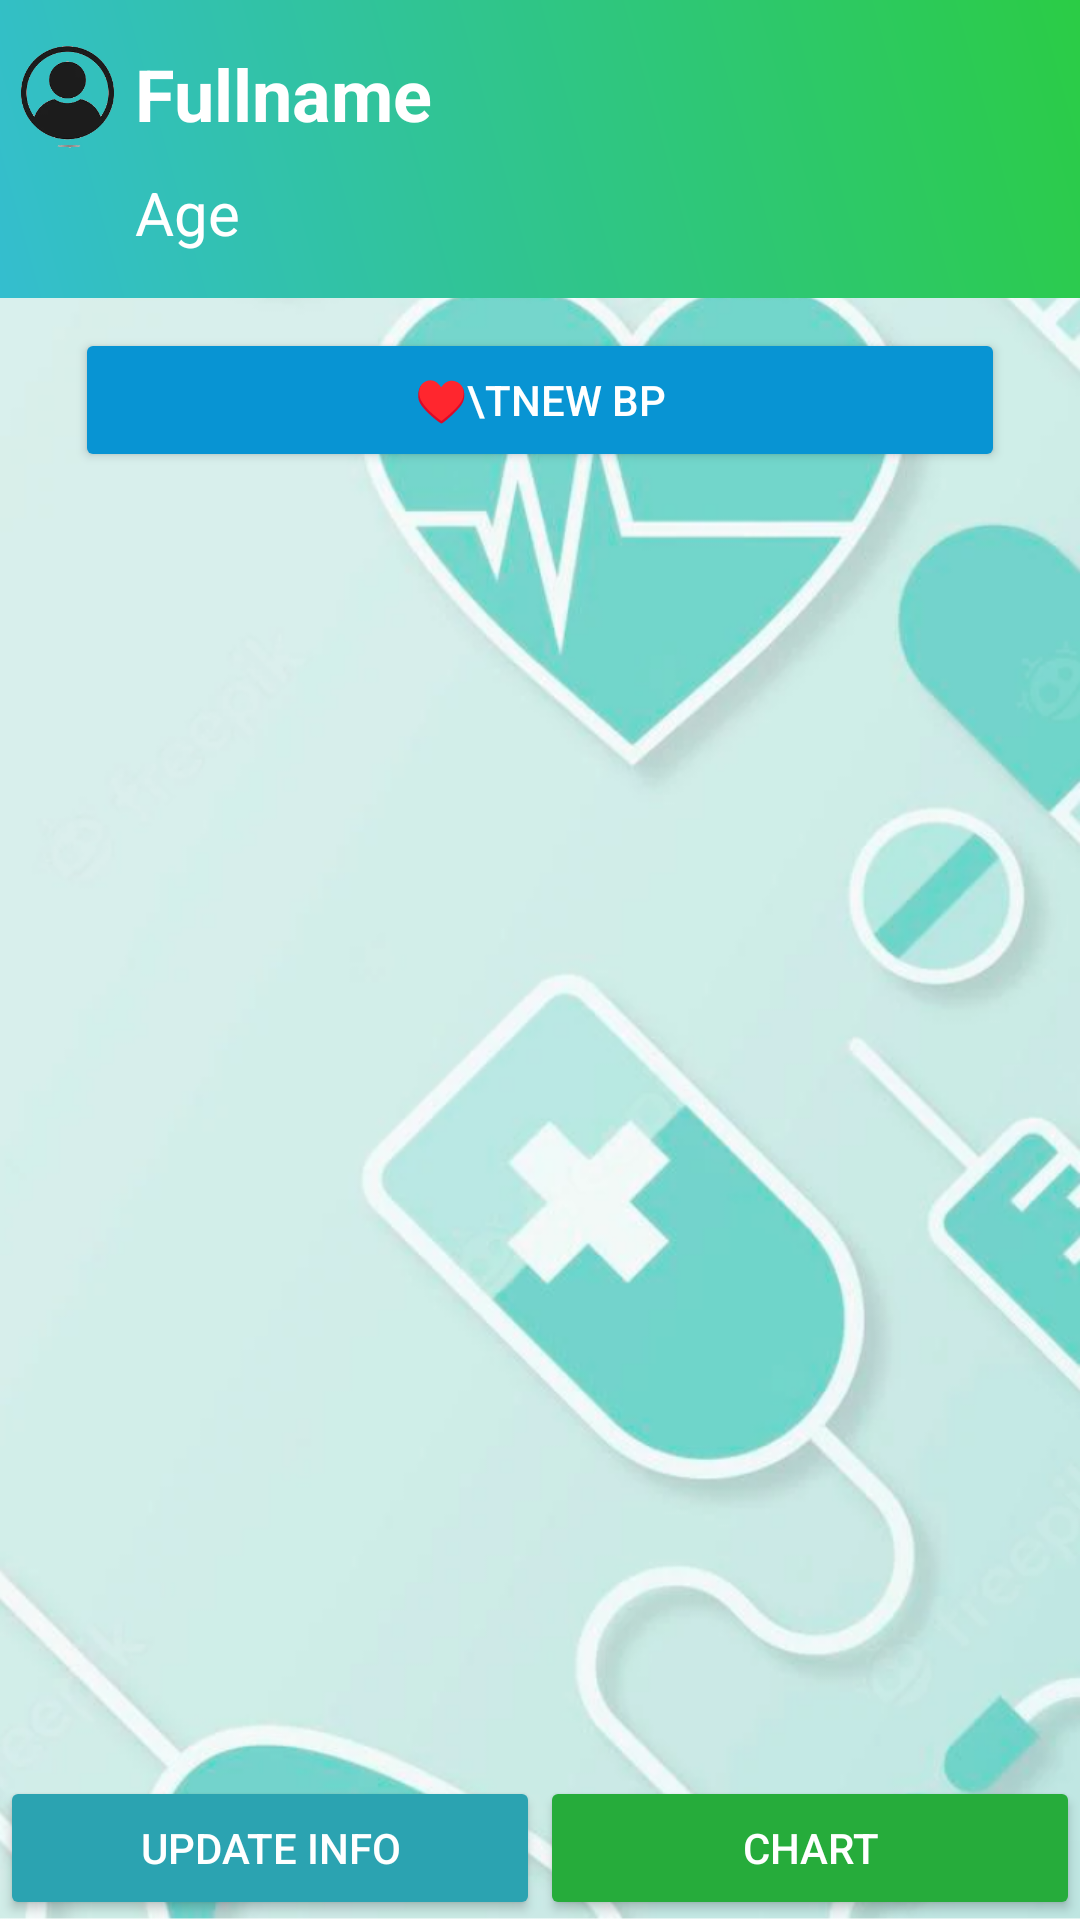

Icons on this 1080 × 1920 Android screen, each with its box as (x1, y1, x2, y2):
user: (21, 46, 114, 148)
